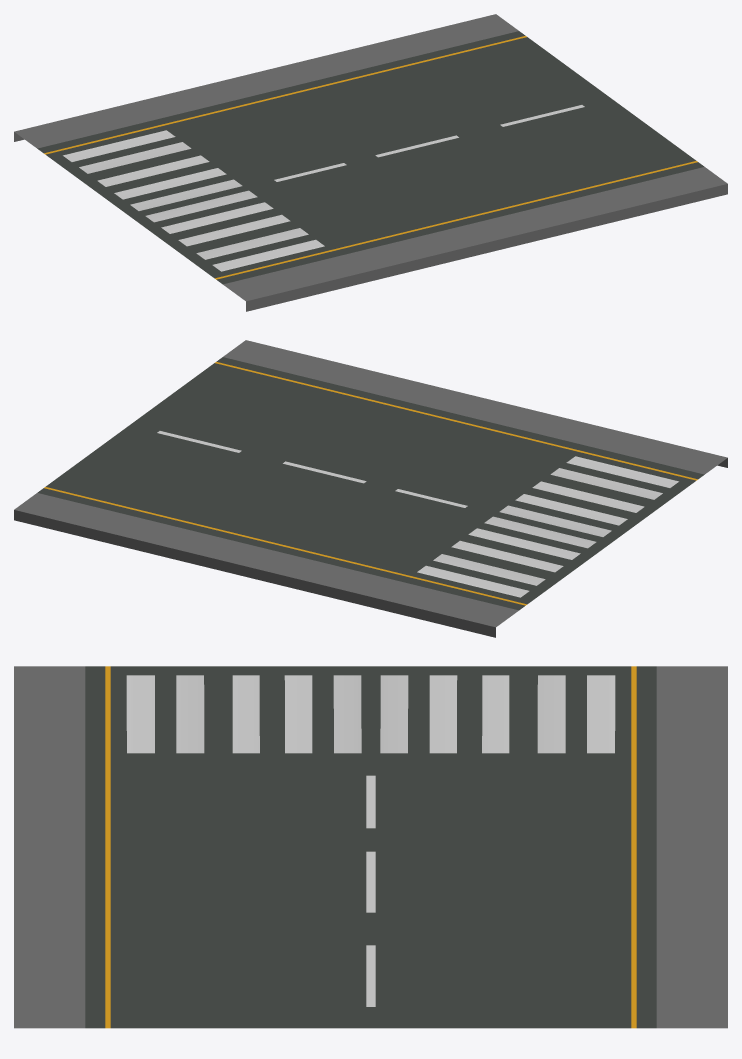
File: SM_Road_4.FBX
The picture shows the model from 3 angles, top to bottom: view 1: azimuth 30°, elevation 25°; view 2: azimuth 150°, elevation 25°; view 3: azimuth 270°, elevation 25°; orthographic projection. The views are drawn at different scales.
Visible parts, largest first — view 1: SM_Road_4; view 2: SM_Road_4; view 3: SM_Road_4.
Boxes of the visible parts, x1=… form: SM_Road_4: x1=14, y1=14, x2=727, y2=311; SM_Road_4: x1=14, y1=340, x2=727, y2=637; SM_Road_4: x1=14, y1=666, x2=727, y2=1028.
Size of what is drawn, in the model's own units: 1200 by 1000 by 25.
